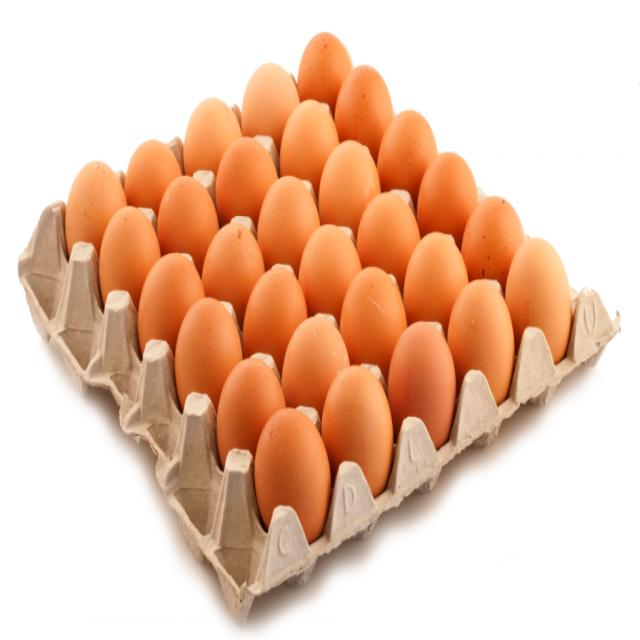Egg: (109, 160, 537, 470), (325, 362, 399, 508), (389, 316, 460, 464), (256, 403, 329, 541), (448, 271, 509, 426), (511, 229, 572, 353)
